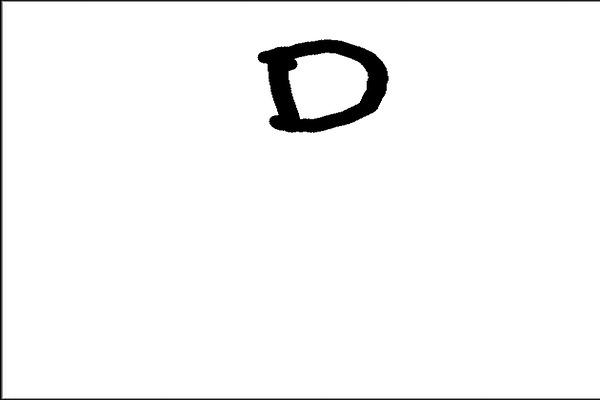D: (253, 35, 391, 137)
